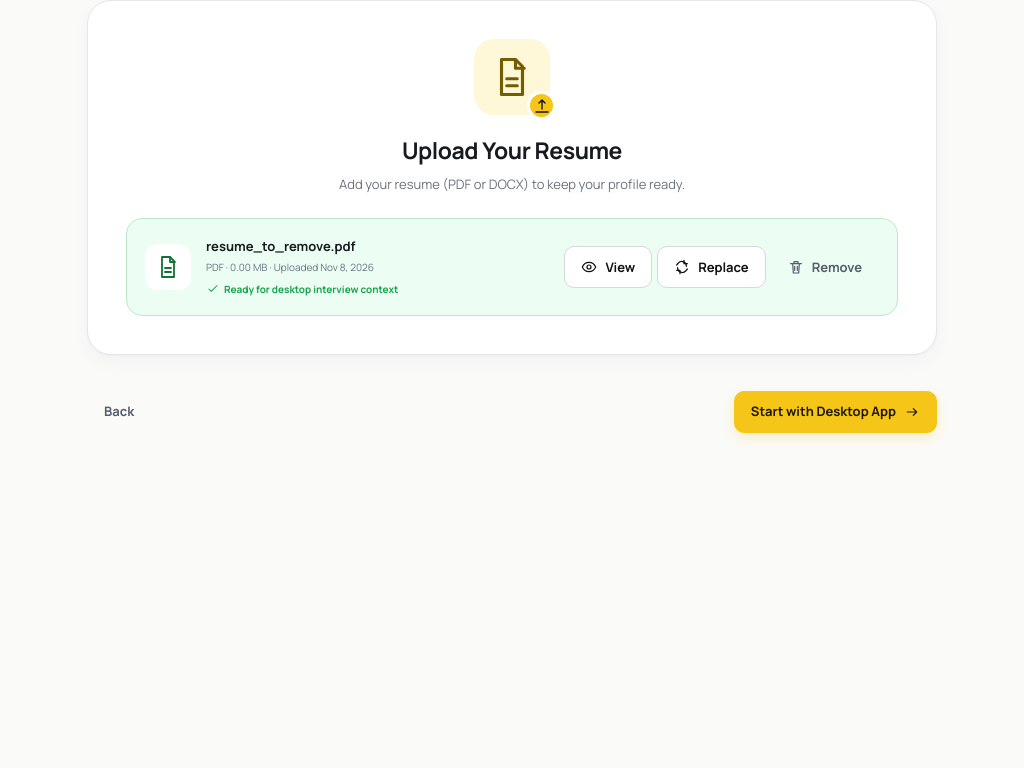
Test: Unit: Resume Validation & Negative Tests › allows removing the uploaded resume and resetting state
The image size is (1024, 768).
Earlier steps of the test are not shown.
Expected: the text "resume_to_remove.pdf" is shown, [206,237,355,255]
Step 1. Click the button "Remove" → (825, 267), box [771,246,879,288]
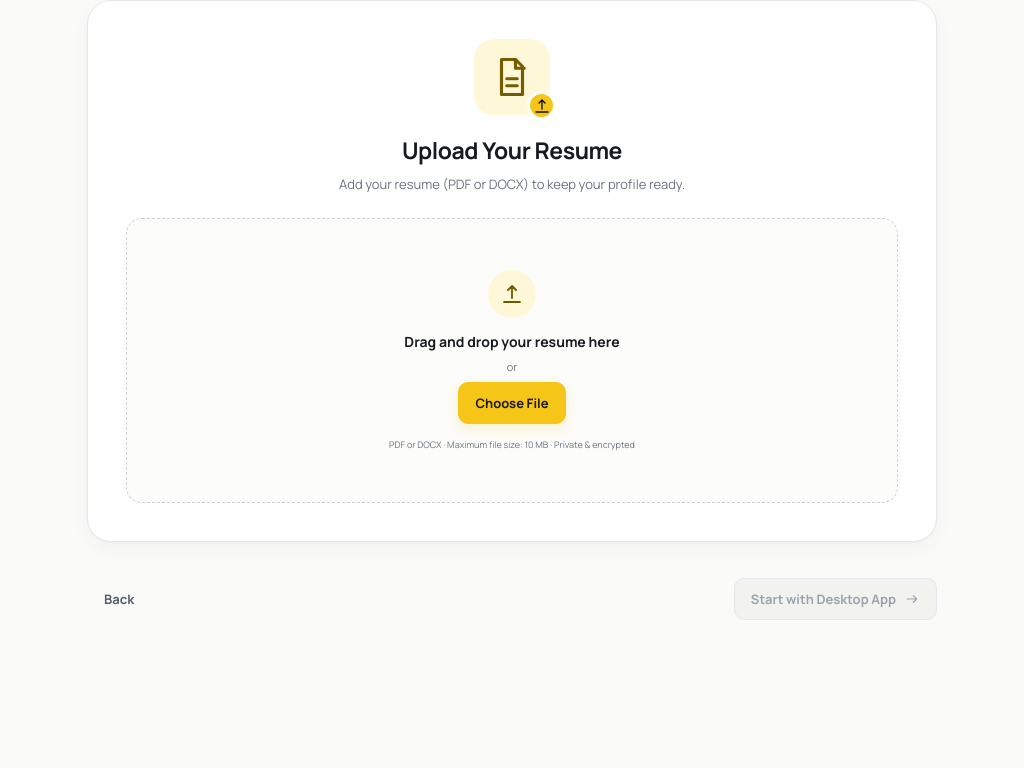
Now the heading "Drag and drop your resume here" is shown, box [404,330,620,352]
Now the text "resume_to_remove.pdf" is gone
